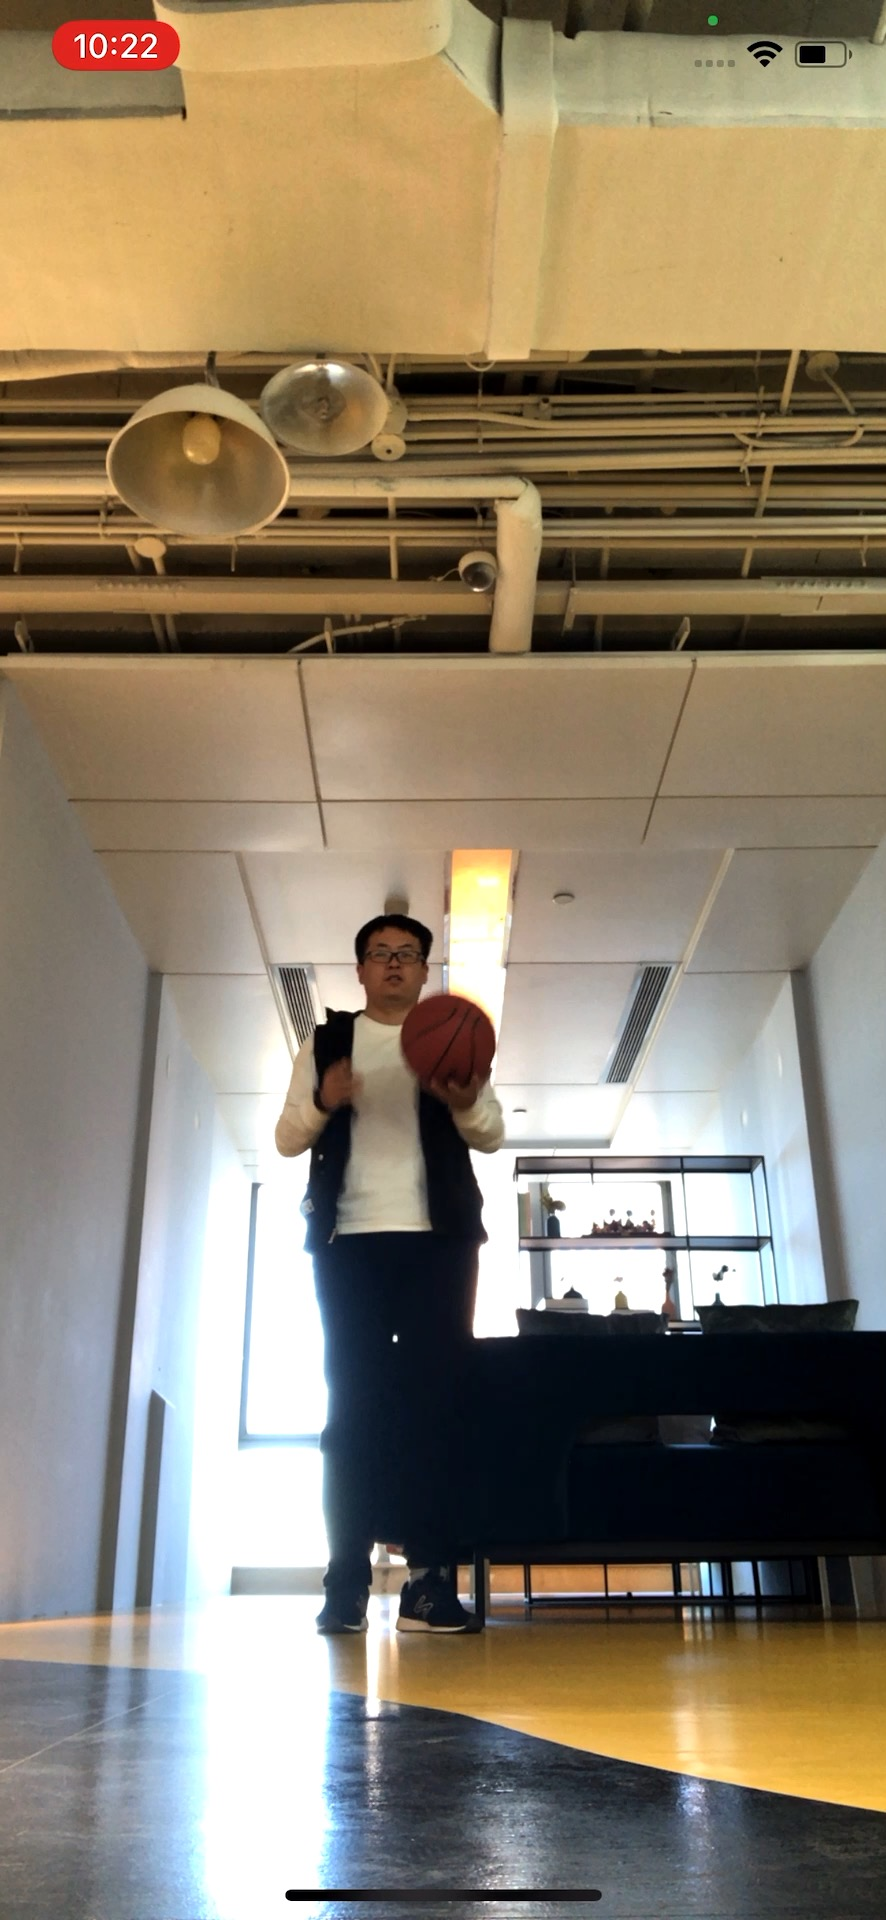ball: (400, 994, 496, 1092)
